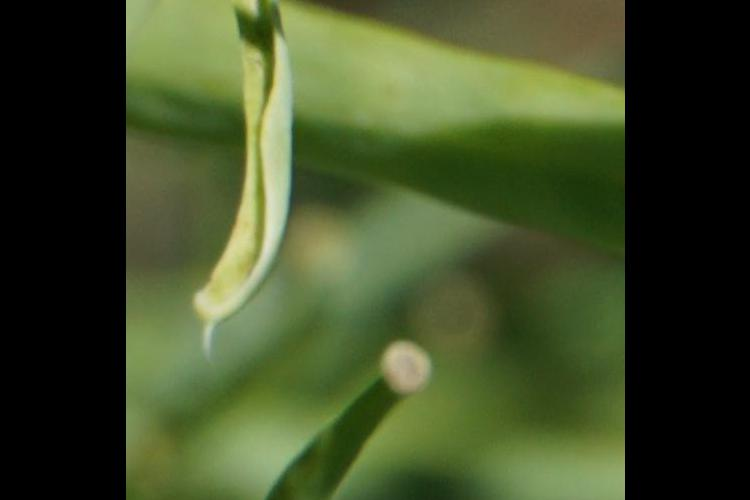pod: (203, 353, 438, 500)
